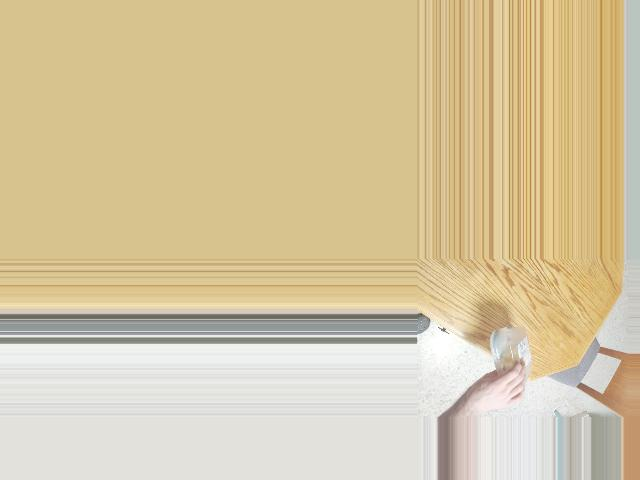cheese: (485, 338, 533, 392)
